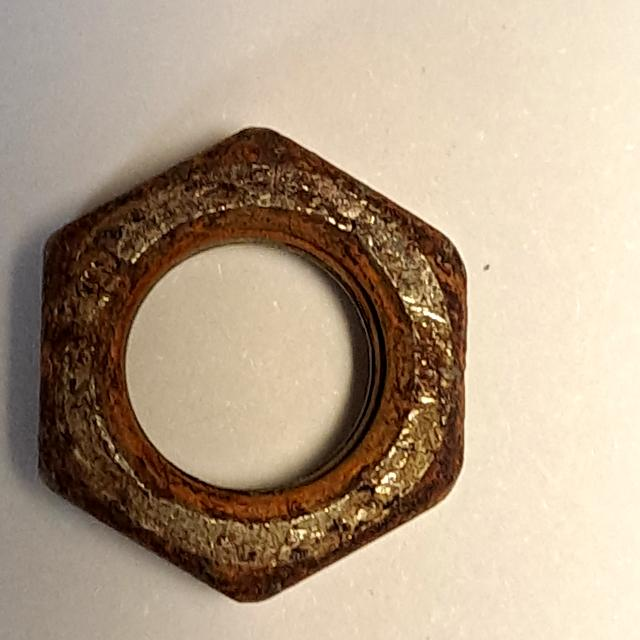Rust: (21, 102, 478, 615)
